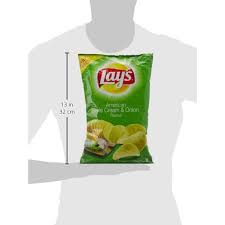lays-small: (72, 49, 159, 163)
